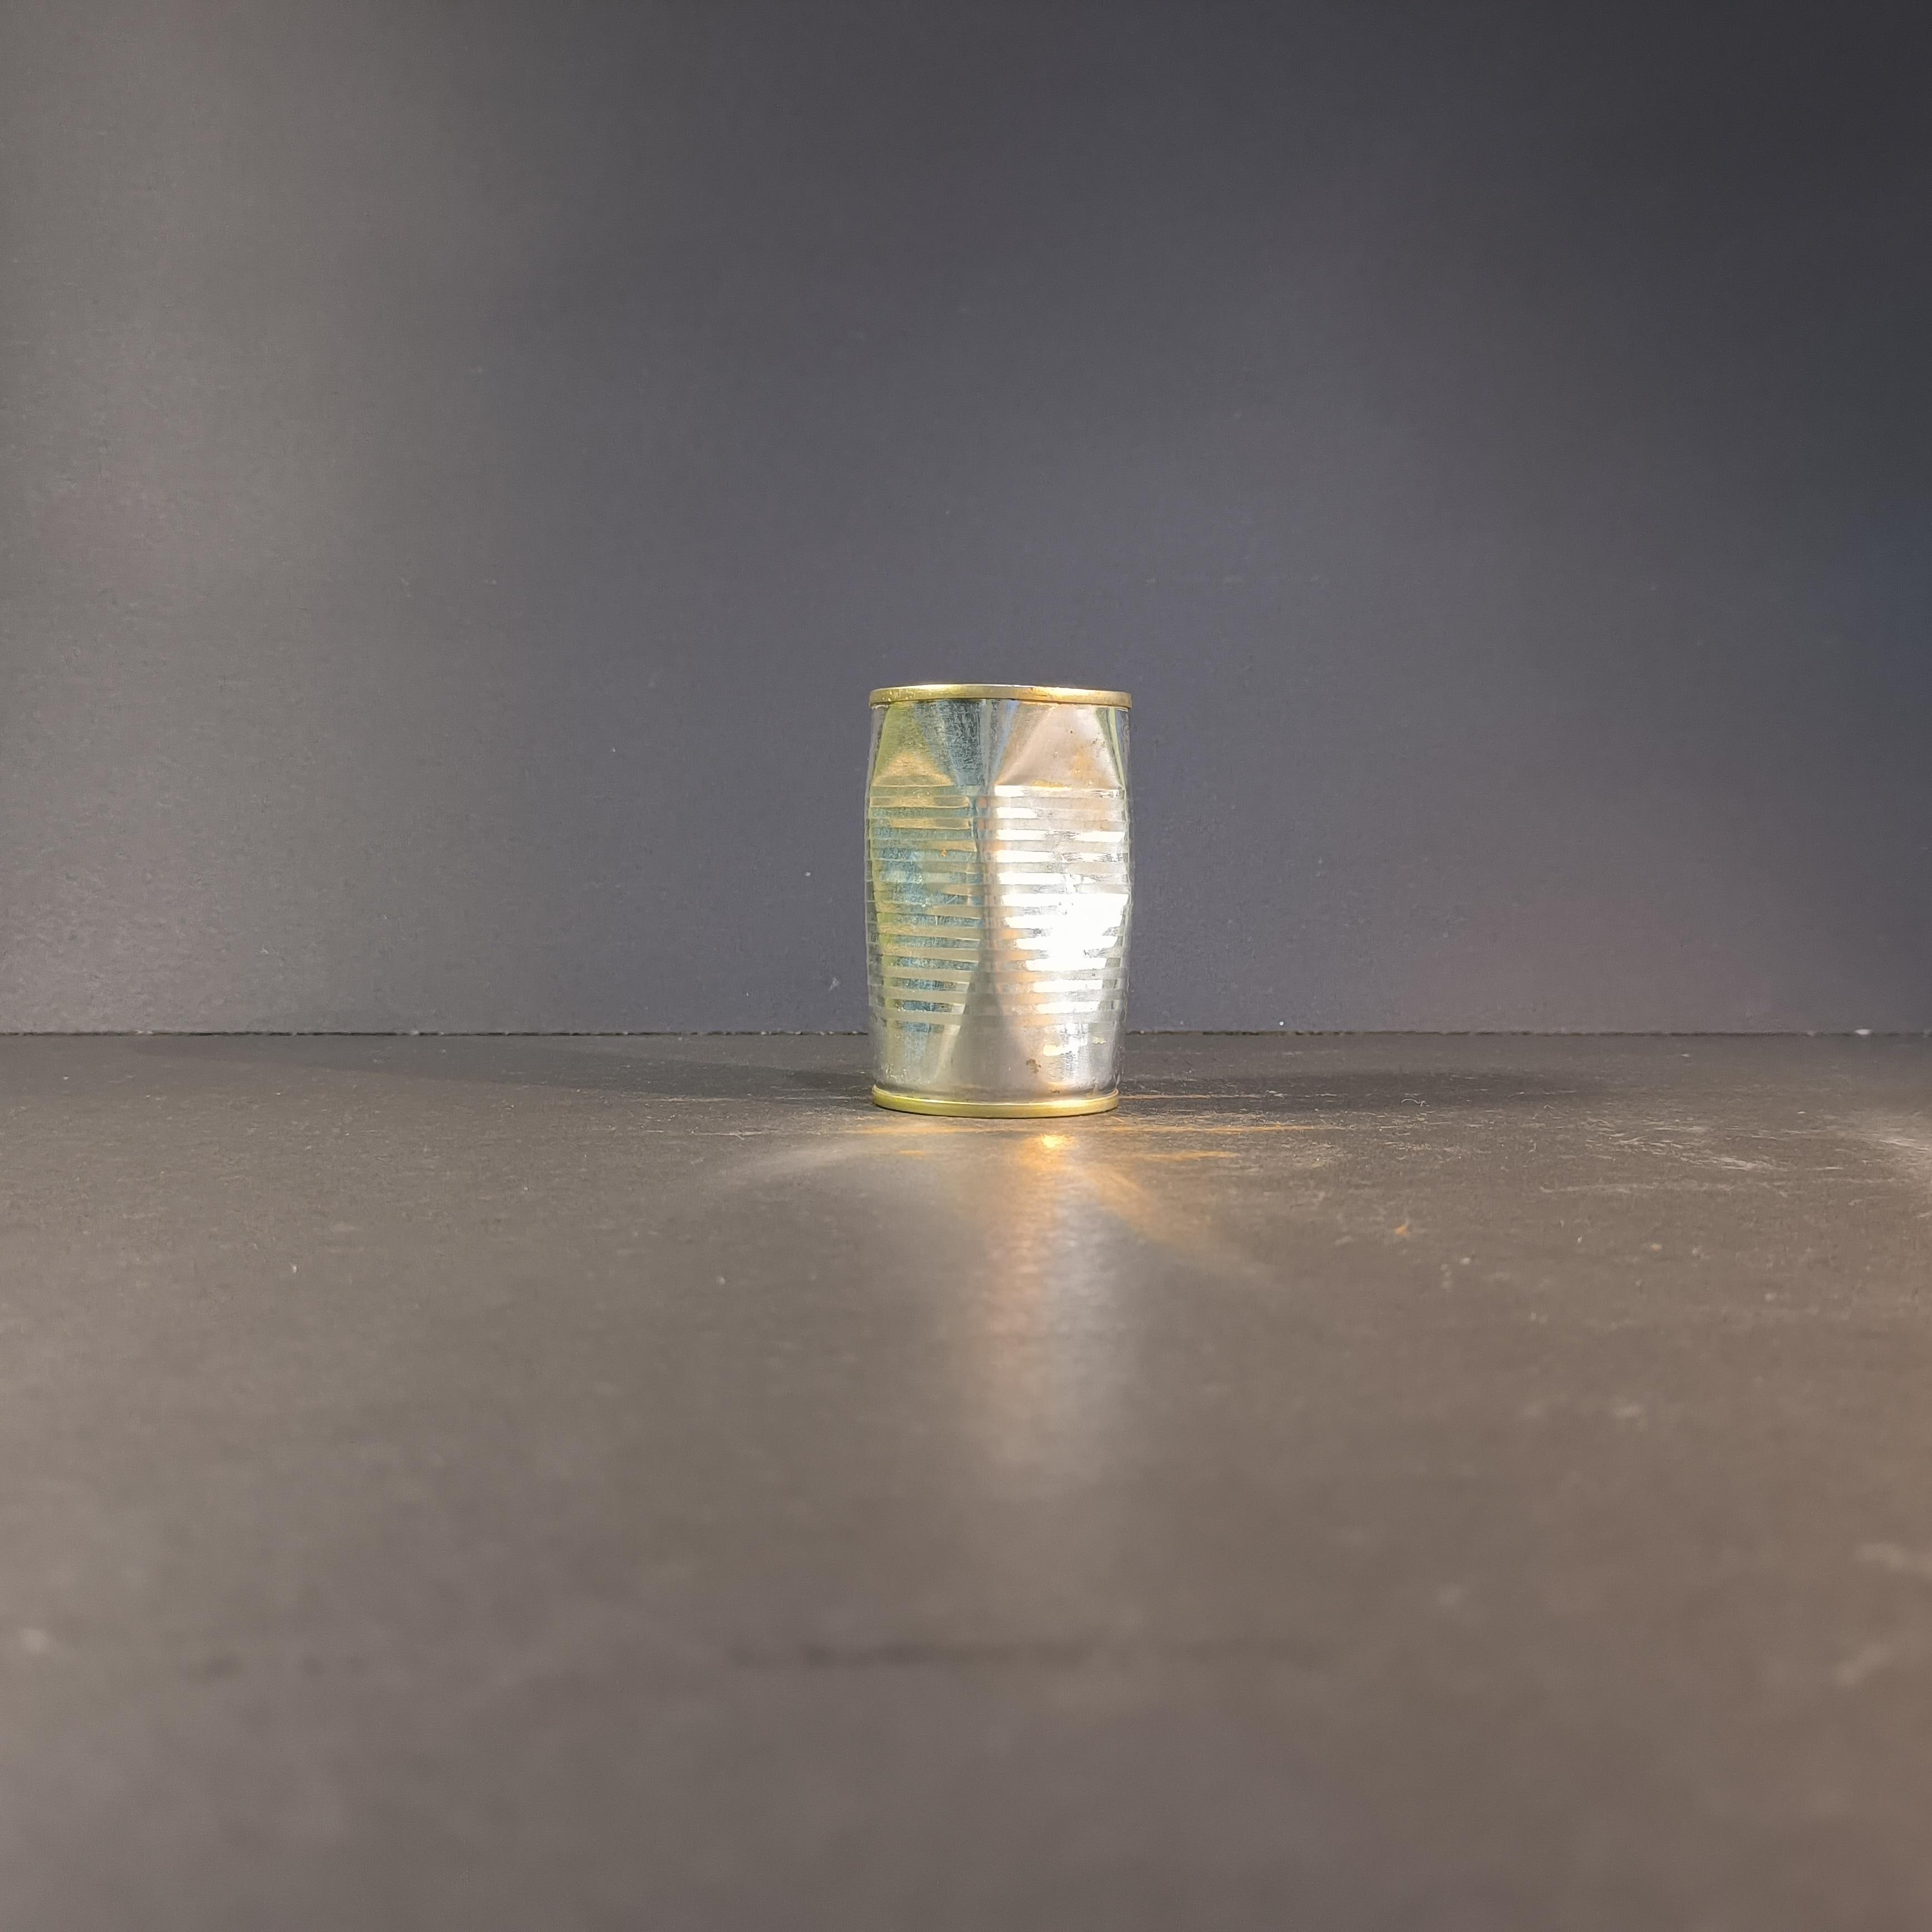Dented: (840, 651, 1166, 1143)
